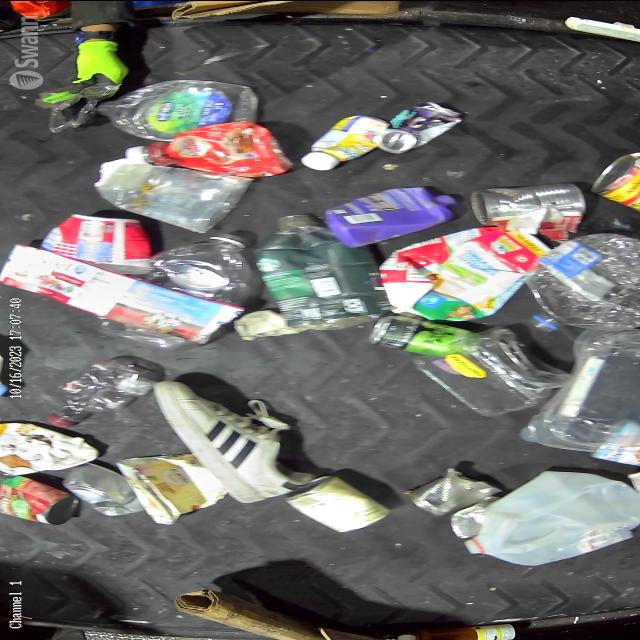can: (288, 473, 384, 529), (468, 183, 584, 223), (370, 100, 450, 156), (1, 473, 81, 526), (364, 312, 468, 352), (586, 144, 640, 201)
milk_jug: (458, 472, 632, 560)
non_white_jug: (263, 212, 373, 328), (119, 116, 284, 168), (325, 188, 446, 240)
plastic_bottle: (519, 231, 640, 329), (142, 226, 238, 324), (95, 76, 258, 130), (35, 354, 151, 426)
